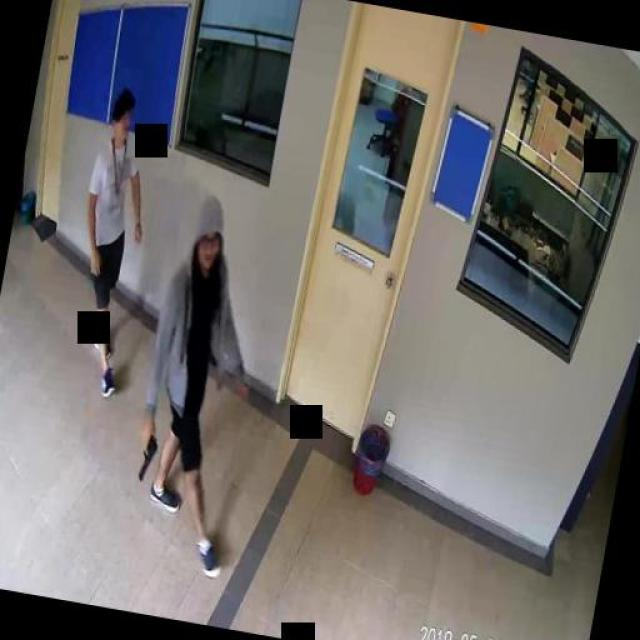gun: (132, 426, 158, 482)
